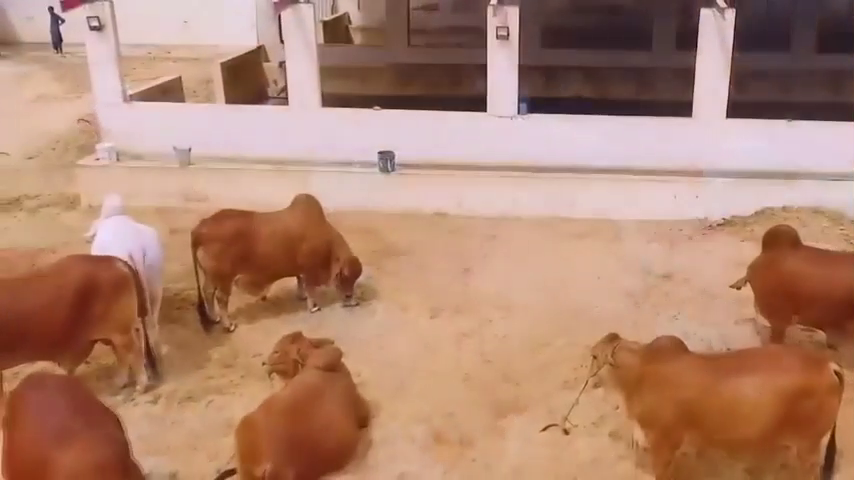bo: (574, 316, 844, 474), (185, 187, 369, 328), (1, 247, 154, 392), (711, 211, 854, 350), (235, 336, 372, 470), (1, 365, 152, 477), (68, 190, 178, 325)
